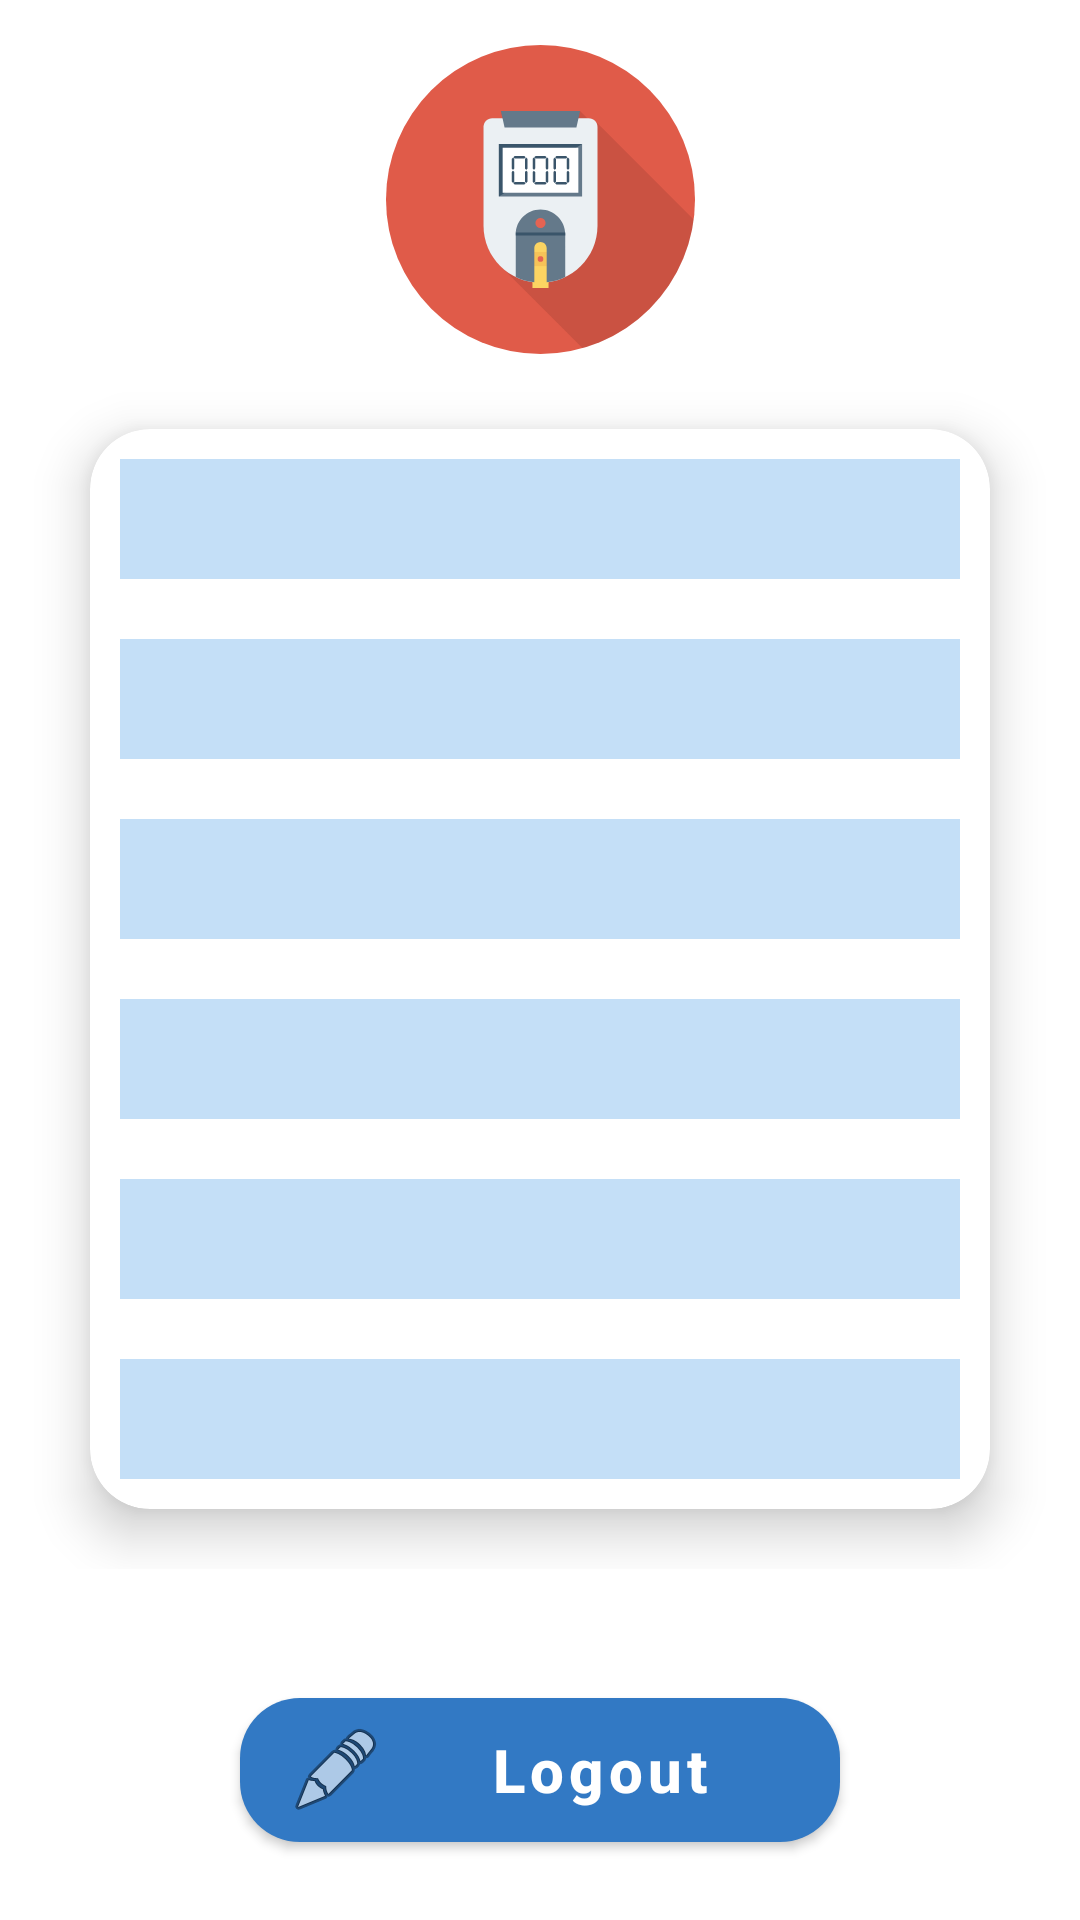

Screen size 1080x1920. Icon name, then its box in pixels as (x1, y1, x2, y2):
sugar blood level: (386, 45, 695, 354)
